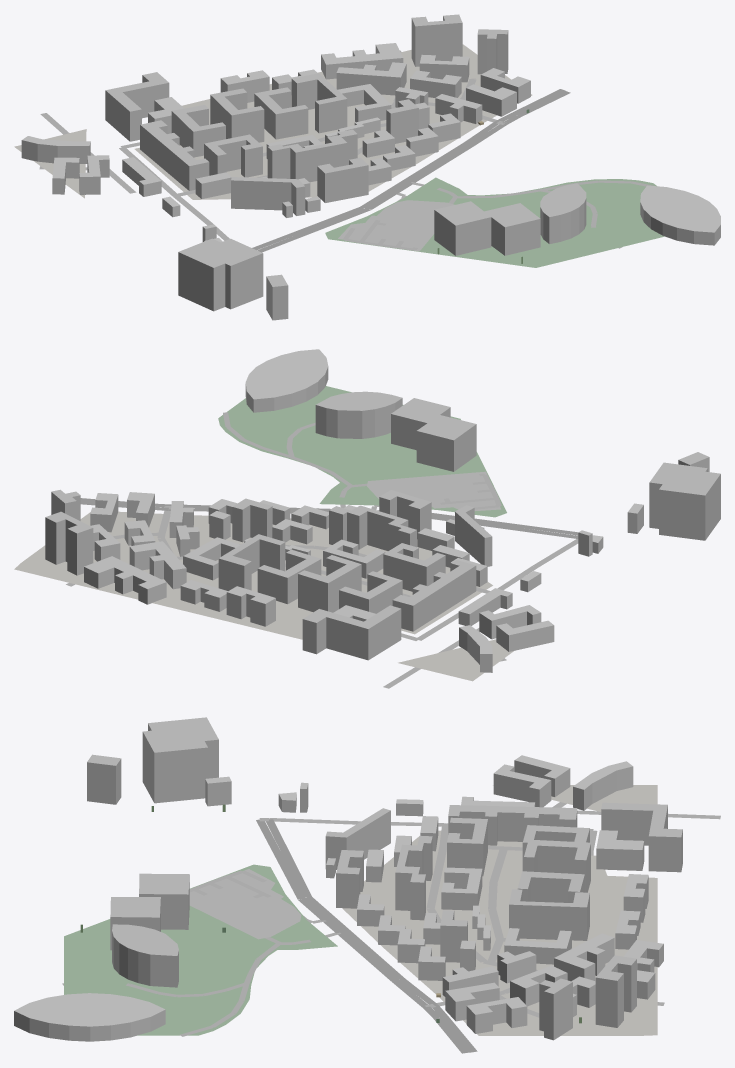
The picture shows the model from 3 angles, top to bottom: view 1: azimuth 30°, elevation 25°; view 2: azimuth 150°, elevation 25°; view 3: azimuth 270°, elevation 25°; orthographic projection. The views are drawn at different scales.
Bounding box in the file's own units: 569 × 47.66 × 595.
